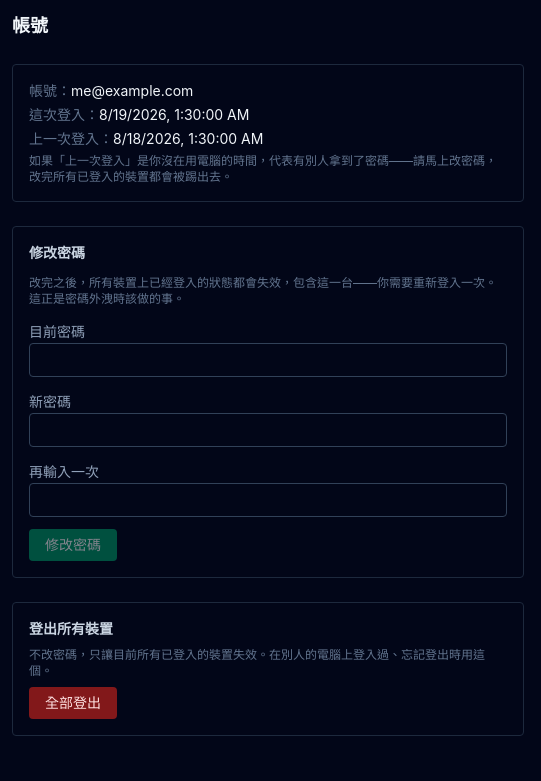
Test: AccountPage › will not submit mismatched new passwords
In the password field labelled "目前密碼": (268, 360) [29,343,507,377], type "old-password"
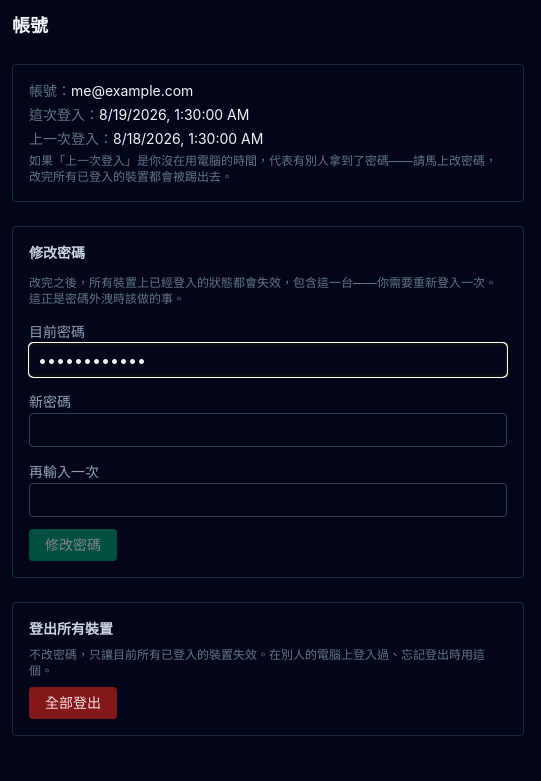
In the password field labelled "新密碼": (268, 430) [29,413,507,447], type "a-new-password"
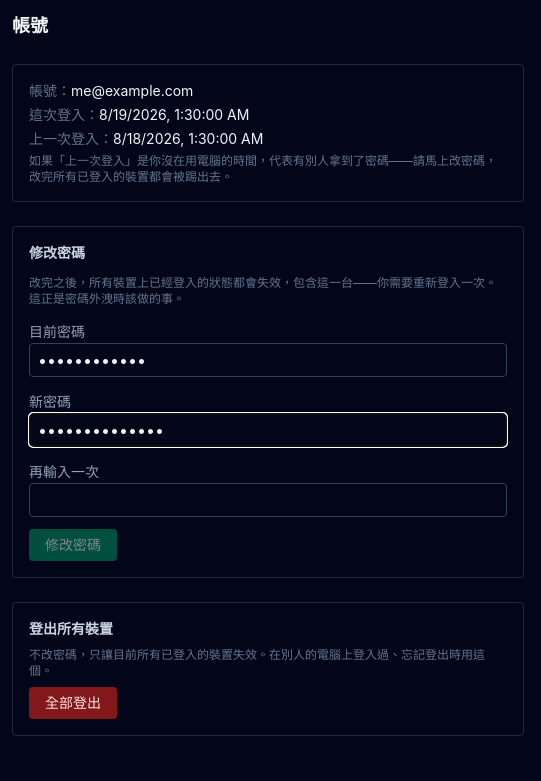
In the password field labelled "再輸入一次": (268, 500) [29,483,507,517], type "different"
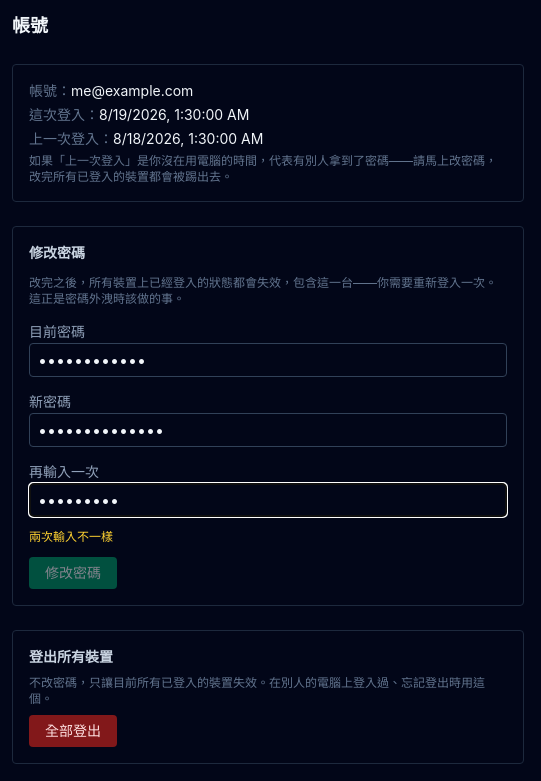
Expected: the button "修改密碼" is disabled, [29,557,117,589]
Expected: the text "兩次輸入不一樣" is shown, [29,529,113,544]
